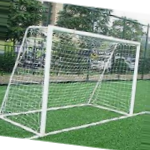goals: (1, 23, 141, 135)
